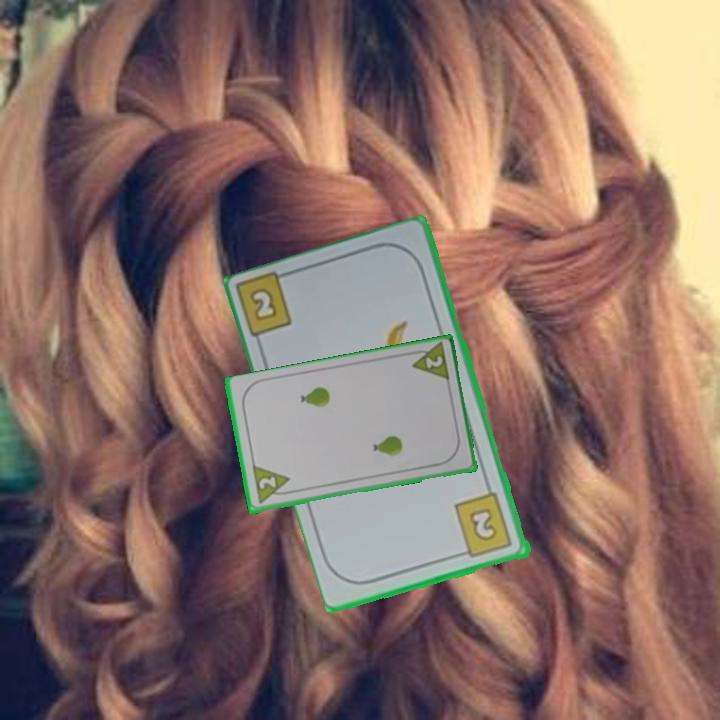2b: (451, 490, 516, 561), (246, 284, 281, 325)
2p: (405, 340, 452, 385), (248, 463, 294, 507)
